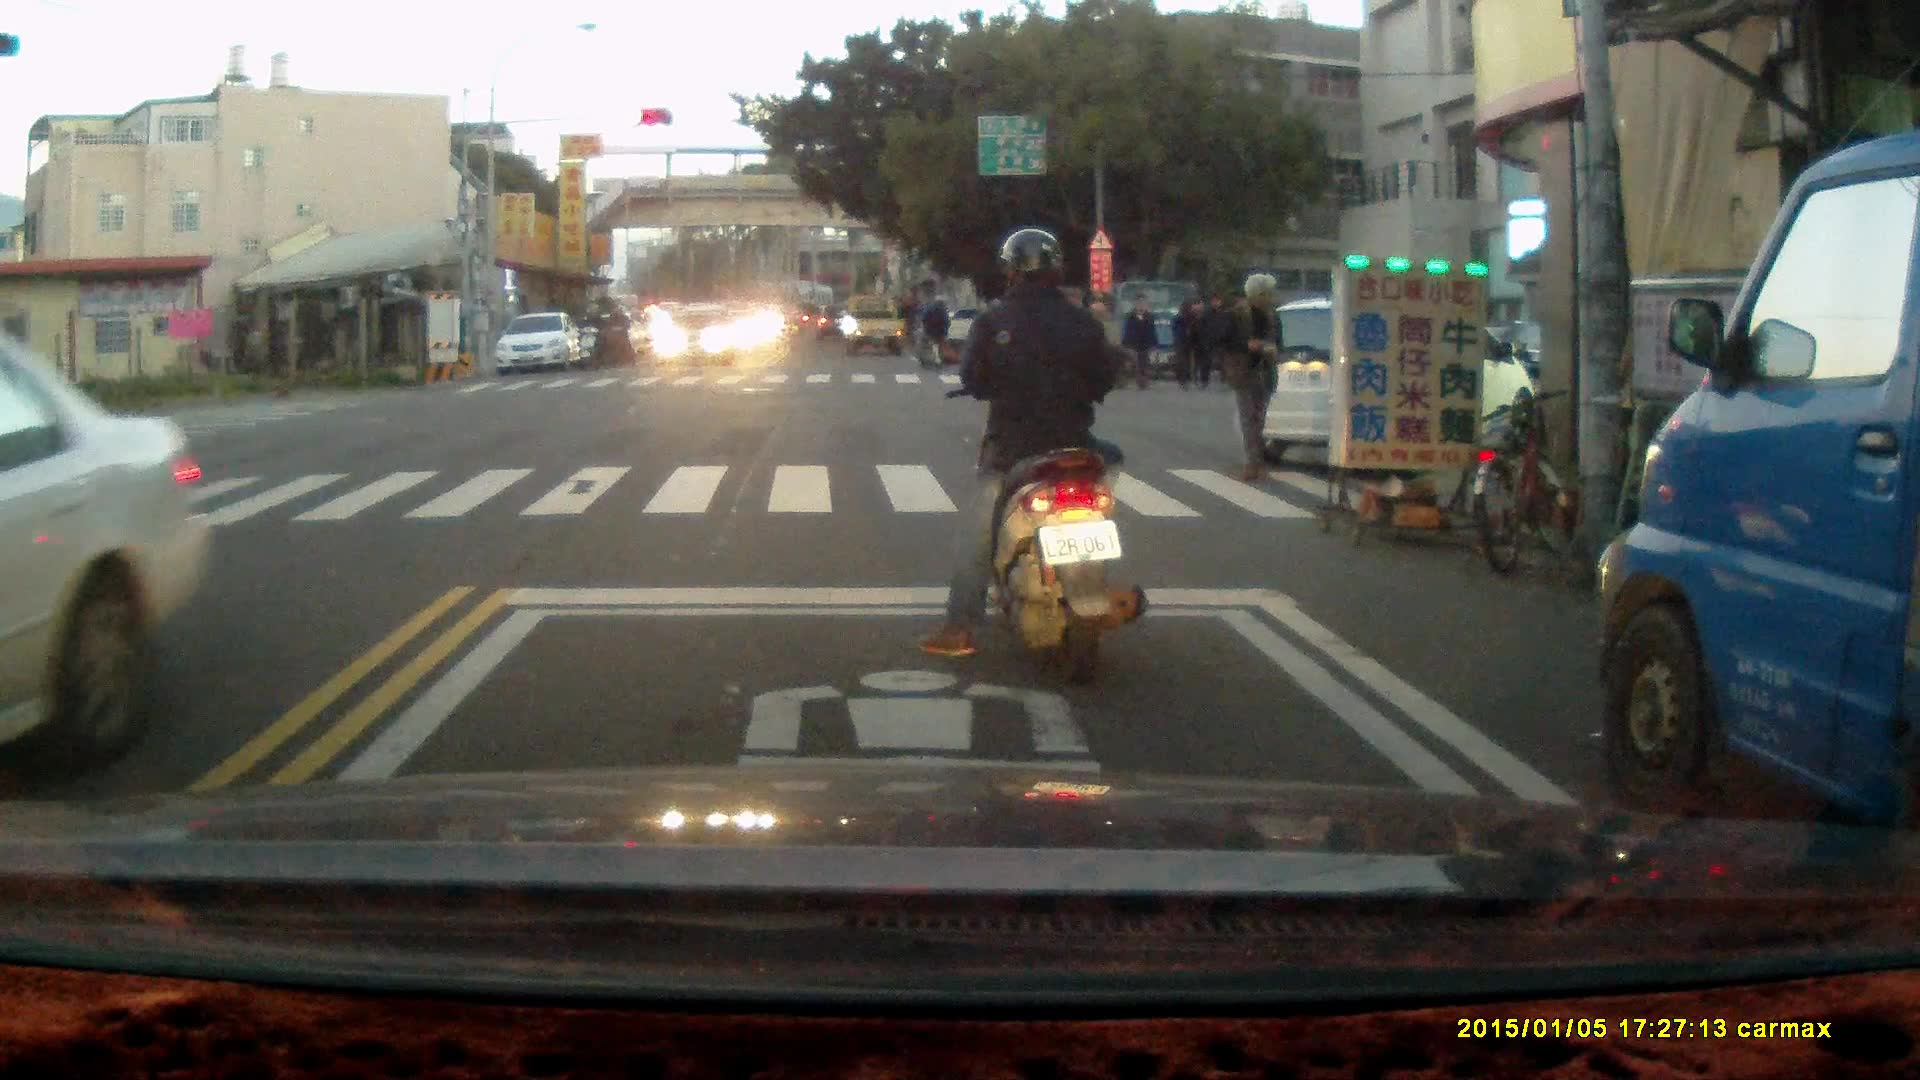pedestrian: (1215, 272, 1288, 483), (1120, 291, 1161, 392), (1169, 292, 1203, 391)
rider: (918, 225, 1149, 686), (913, 290, 953, 367), (577, 301, 612, 372), (595, 300, 631, 367)
vehicle: (1596, 120, 1920, 901), (1, 347, 214, 799), (1236, 303, 1533, 462), (651, 300, 743, 369), (493, 311, 584, 378), (841, 295, 905, 357)
